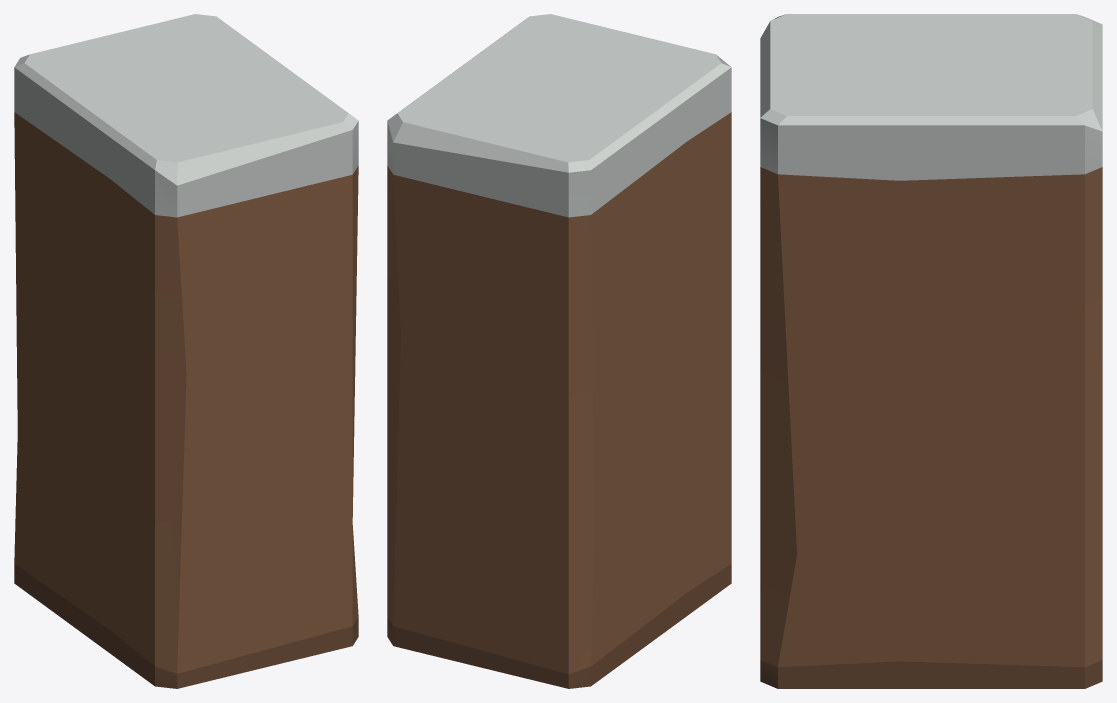
File: Prop_TellerDesk_03.glb
3 views of the same model, side by side, from view 1: azimuth 30°, elevation 25°; view 2: azimuth 150°, elevation 25°; view 3: azimuth 270°, elevation 25° (orthographic). The views are drawn at different scales.
Parts seen in each view (by area): view 1: SM_Prop_TellerDesk_03; view 2: SM_Prop_TellerDesk_03; view 3: SM_Prop_TellerDesk_03.
Part boxes in pixels (left/top/right/bottom): SM_Prop_TellerDesk_03: left=14, top=14, right=358, bottom=688; SM_Prop_TellerDesk_03: left=387, top=14, right=731, bottom=688; SM_Prop_TellerDesk_03: left=760, top=14, right=1102, bottom=688.
Size of the model in its own units: 0.7673 by 1.88 by 1.02.
1 material, 1 textured.
